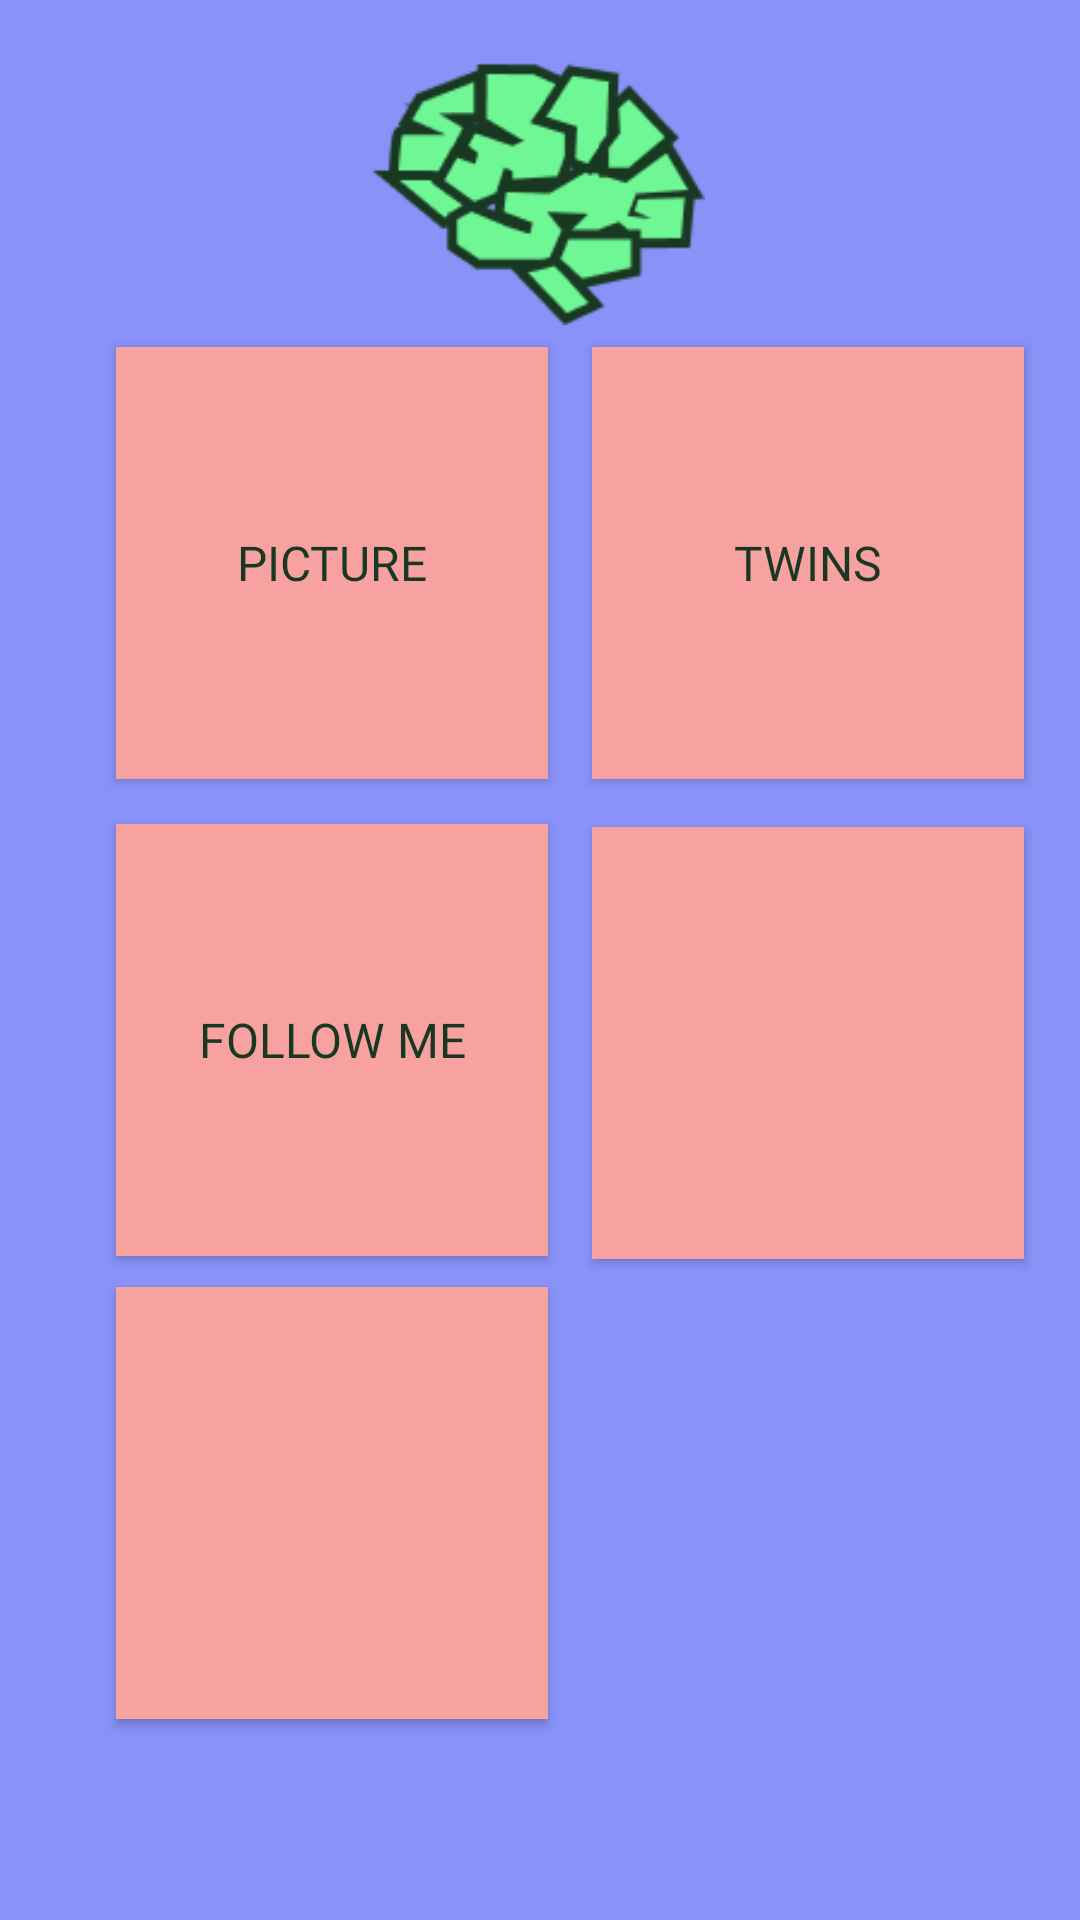

Icons on this 1080px x 1920px Android screen, each with its box as (x1, y1, x2, y2):
brain: (372, 63, 705, 325)
